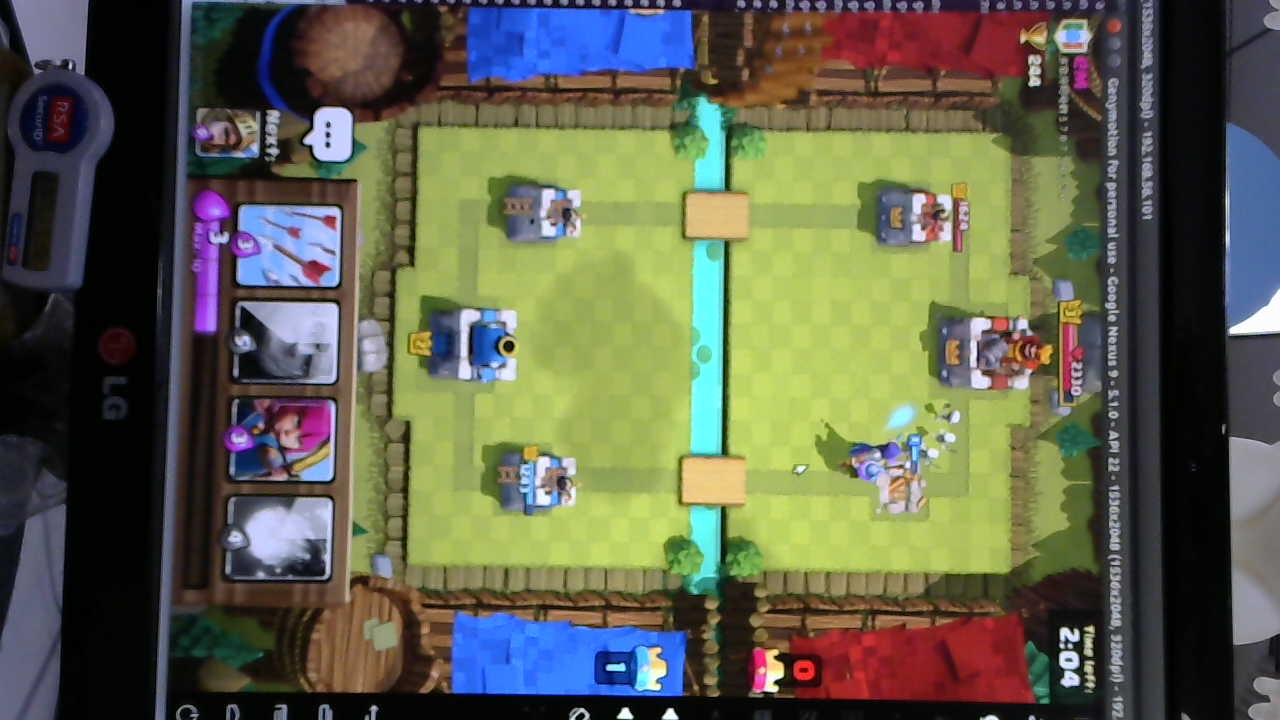arena: (499, 181, 585, 246), (508, 449, 580, 511)
darena: (868, 455, 930, 521)
earena: (869, 188, 954, 248)
eking: (939, 313, 1041, 396)
king: (430, 302, 524, 384)
musketeer: (838, 446, 883, 482)
skeleton: (920, 405, 966, 464)
witch: (844, 439, 912, 464)
